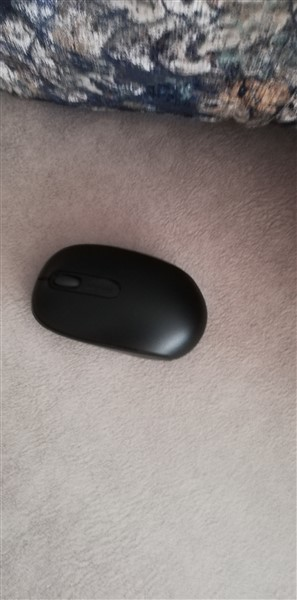mouse: (28, 239, 216, 367)
